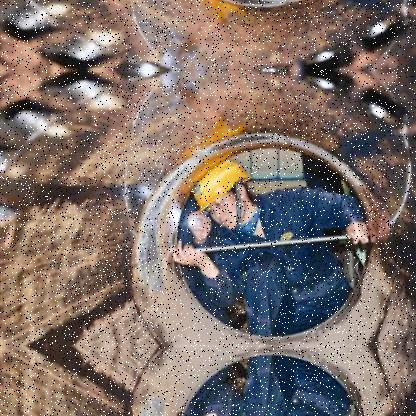Helmet: (188, 160, 258, 232)
